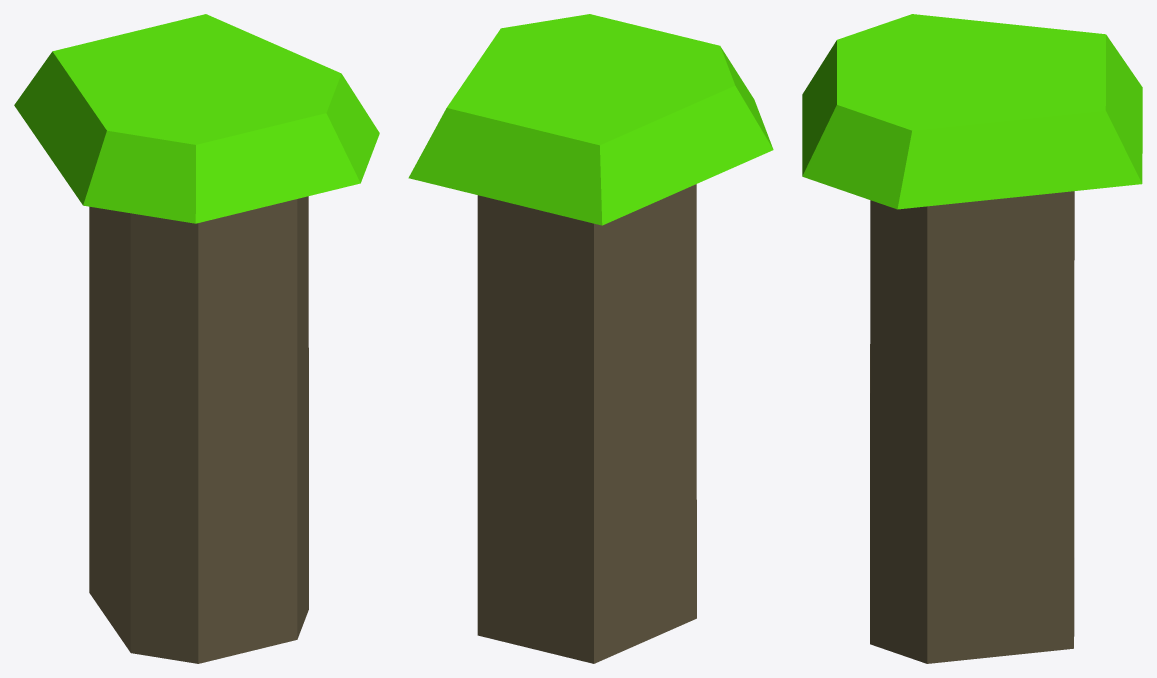
File: MineB.fbx
3 renders of one model, left to right at view 1: azimuth 30°, elevation 25°; view 2: azimuth 150°, elevation 25°; view 3: azimuth 270°, elevation 25°, orthographic.
Parts seen in each view (by area): view 1: MineB; view 2: MineB; view 3: MineB.
Boxes of the visible parts, bbox=[...] form: MineB: bbox=[14, 14, 379, 663]; MineB: bbox=[408, 14, 773, 663]; MineB: bbox=[802, 14, 1142, 663].
Size of the model in its own units: 0.6105 by 1.05 by 0.5951.
